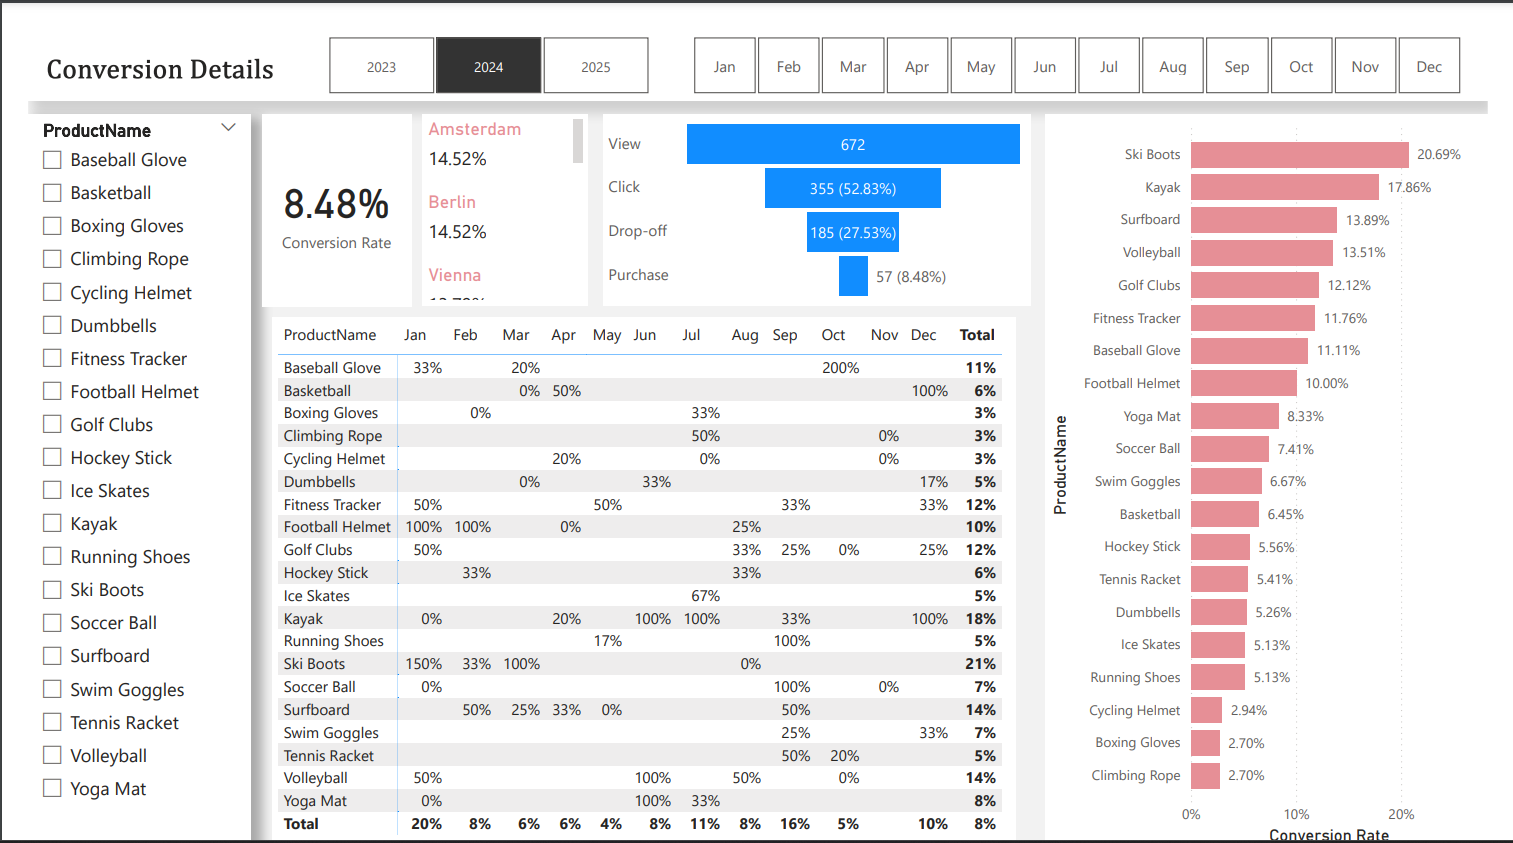

The dashboard page shown, as its layout file describes it:
{"tool":"powerbi","page":{"name":"Conversion Details","canvas":[1280,720],"ordinal":1},"visuals":[{"type":"textbox","box":[0,0,1280.3,63.1],"z":0},{"type":"slicer","fields":{"Values":["dim_products.ProductName"]},"box":[0,74.1,194.9,646.3],"z":1000},{"type":"card","fields":{"Values":["Calculations.Conversion Rate"]},"box":[205.3,73.7,130.3,169.7],"z":2000},{"type":"slicer","fields":{"Values":["Calendar.Year"]},"box":[238.2,0,330.3,63.2],"z":3000},{"type":"slicer","fields":{"Values":["Calendar.MonthNameShort"]},"box":[558.5,0,721.8,63.1],"z":4000},{"type":"clusteredBarChart","fields":{"Category":["dim_products.ProductName"],"Y":["Calculations.Conversion Rate"]},"box":[892.1,73.7,388.2,646.1],"z":5000},{"type":"pivotTable","fields":{"Values":["Calculations.Conversion Rate"],"Columns":["Calendar.MonthNameShort"],"Rows":["dim_products.ProductName"]},"box":[214,251.9,651.8,467.1],"z":6000},{"type":"funnel","fields":{"Y":["Calculations.Number of Customer Journeys"],"Category":["fact_customer_journey.Action"]},"box":[503.9,73.7,375,168.4],"z":7000},{"type":"multiRowCard","title":"Avg Conversion Rate by City","fields":{"Values":["dim_customers.City","Calculations.Conversion Rate"]},"box":[346.1,73.7,144.7,168.4],"z":8000}]}

Visuals, with their boxes in screenshot pixels (x1, y1, x2, y2), scaled from the page's 1280x720 canvas onto the 1513x843 screenshot:
textbox: [0, 0, 1512, 74]
slicer - dim_products.ProductName: [0, 87, 230, 842]
card - Calculations.Conversion Rate: [243, 86, 397, 285]
slicer - Calendar.Year: [282, 0, 672, 74]
slicer - Calendar.MonthNameShort: [660, 0, 1512, 74]
clusteredBarChart - dim_products.ProductName x Calculations.Conversion Rate: [1054, 86, 1512, 842]
pivotTable - Calculations.Conversion Rate x Calendar.MonthNameShort: [253, 295, 1023, 842]
funnel - Calculations.Number of Customer Journeys x fact_customer_journey.Action: [596, 86, 1039, 283]
"Avg Conversion Rate by City" multiRowCard: [409, 86, 580, 283]
